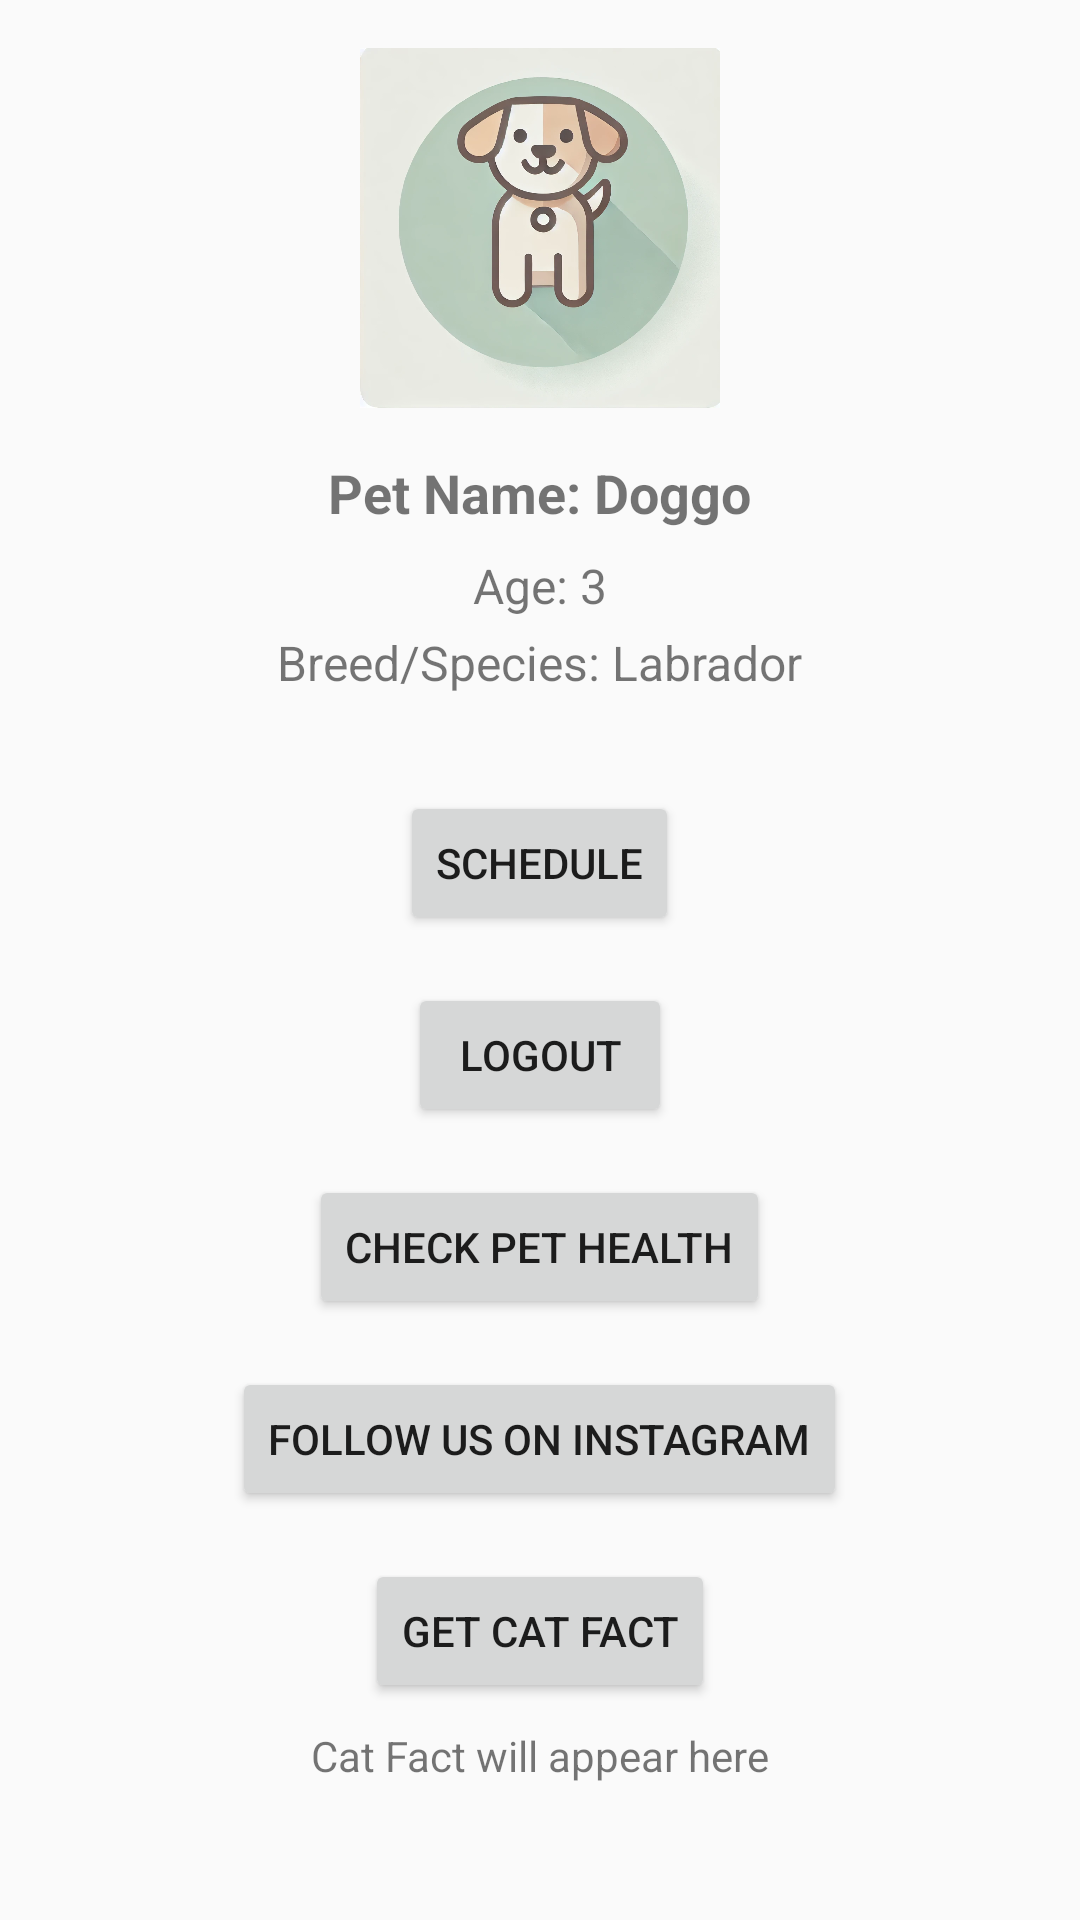

Screen size 1080px x 1920px. Icon name, then its box in pixels as (x1, y1, x2, y2):
Pet Profile Picture: (360, 51, 720, 408)
